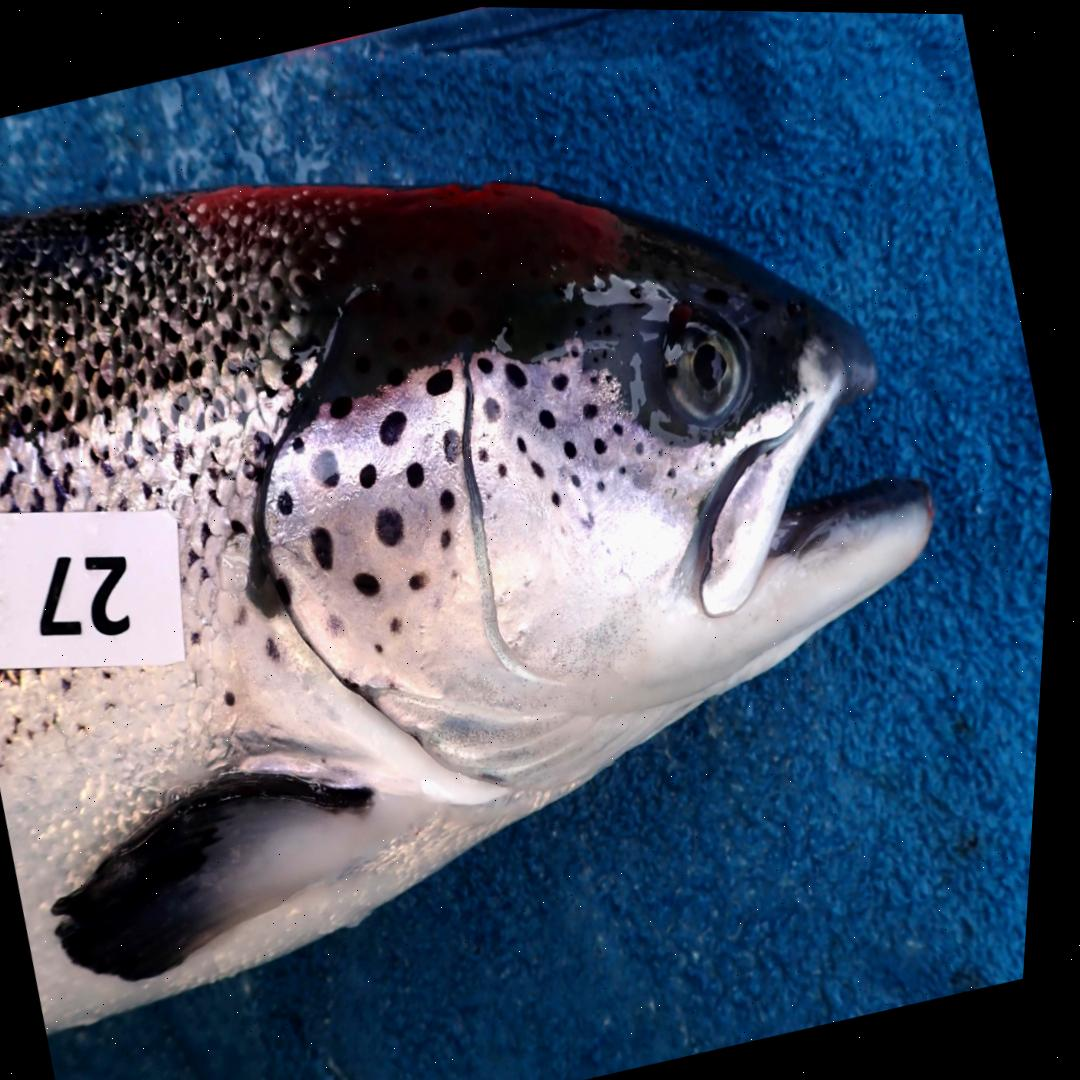spot: (380, 505, 409, 546), (315, 447, 344, 487), (316, 524, 339, 569), (383, 409, 410, 444), (429, 365, 457, 395), (360, 569, 386, 594), (332, 611, 353, 640), (508, 360, 530, 387), (333, 393, 356, 418), (447, 426, 464, 459), (411, 460, 430, 487), (280, 488, 299, 514), (363, 462, 381, 487), (281, 577, 297, 604), (487, 396, 505, 419), (555, 370, 573, 389), (542, 407, 559, 427), (444, 488, 460, 509), (414, 570, 431, 589), (480, 354, 497, 371), (587, 399, 603, 417), (598, 435, 612, 452), (396, 614, 409, 632), (585, 511, 599, 527), (536, 458, 549, 475), (445, 527, 456, 547), (568, 439, 580, 457), (296, 435, 309, 451), (555, 489, 566, 506), (520, 434, 531, 450), (574, 471, 586, 485), (600, 476, 611, 490), (617, 420, 628, 434), (502, 460, 512, 475), (639, 437, 648, 452), (483, 447, 493, 460), (489, 489, 499, 502), (380, 641, 390, 653), (455, 566, 464, 577), (672, 465, 680, 475), (592, 372, 600, 382), (608, 371, 616, 381), (624, 463, 631, 471), (662, 446, 668, 454)
